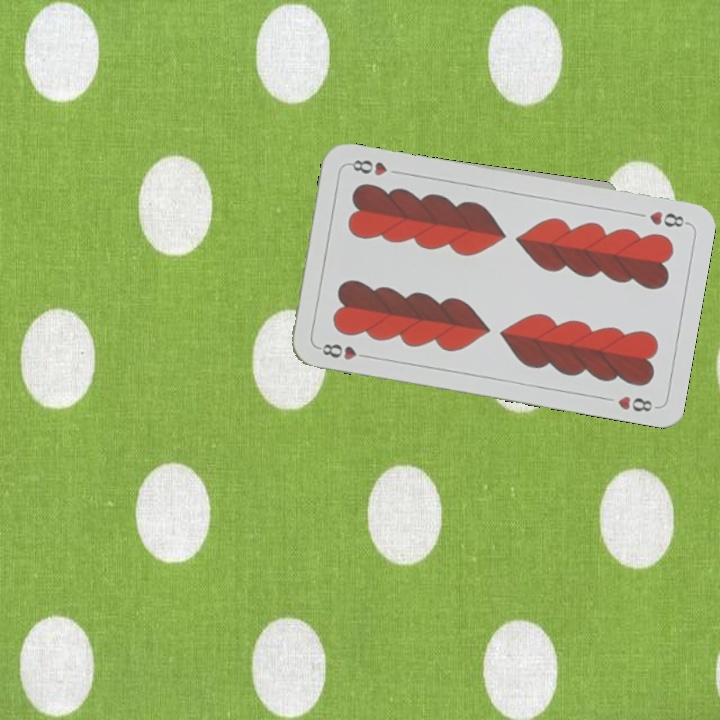H8: (314, 339, 373, 363), (645, 207, 690, 230)
